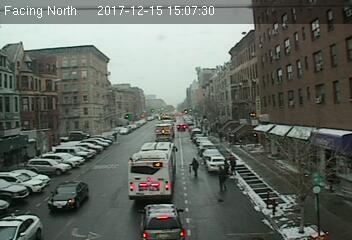bus: (127, 141, 178, 200)
car: (136, 204, 187, 240), (47, 180, 88, 212), (1, 213, 42, 240), (206, 156, 230, 174), (176, 123, 186, 132)
pedestrian: (217, 162, 227, 195), (188, 155, 199, 182)
truck: (154, 124, 174, 141)
